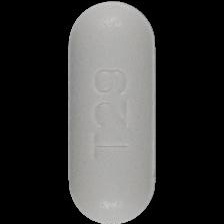53808-1068: (0, 0, 224, 224)
